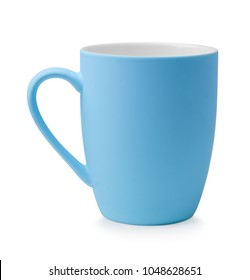cup: (25, 41, 220, 224)
